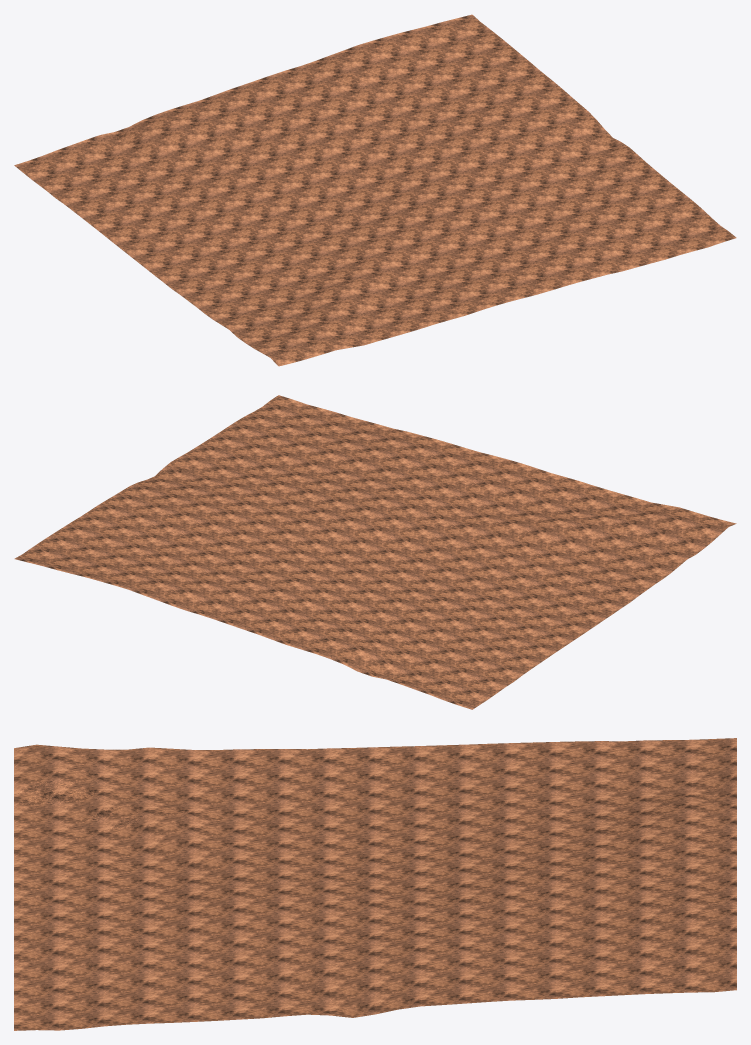
File: terrain_06_09.dae
3 views of the same model, one above another, from view 1: azimuth 30°, elevation 25°; view 2: azimuth 150°, elevation 25°; view 3: azimuth 270°, elevation 25° (orthographic). The views are drawn at different scales.
Parts seen in each view (by area): view 1: terrain_06_09-node; view 2: terrain_06_09-node; view 3: terrain_06_09-node.
Boxes of the visible parts, x1=… form: terrain_06_09-node: x1=14, y1=14, x2=736, y2=366; terrain_06_09-node: x1=14, y1=395, x2=736, y2=709; terrain_06_09-node: x1=14, y1=738, x2=736, y2=1030.
Size of the model in its own units: 128 by 128 by 12.77.
Materials: 1 (1 with a texture image).
